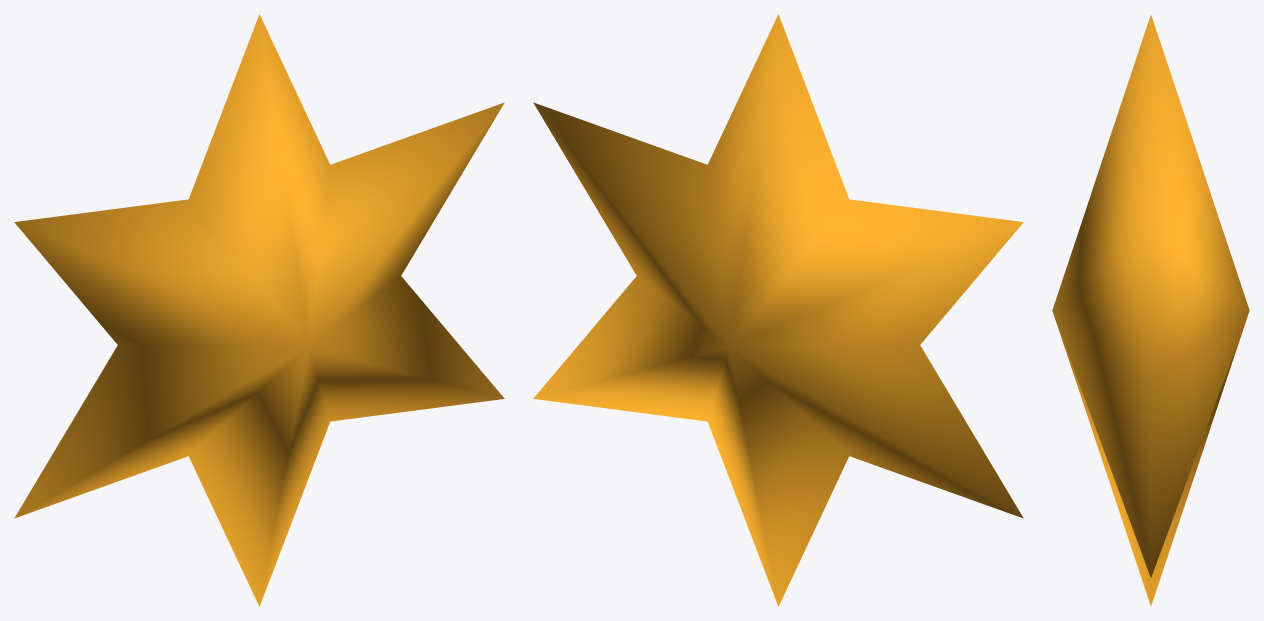
The model's file is 01-STAR-06.fbx.
The picture shows the model from 3 angles, left to right: view 1: azimuth 30°, elevation 25°; view 2: azimuth 150°, elevation 25°; view 3: azimuth 270°, elevation 25°; orthographic projection.
Parts seen in each view (by area): view 1: 01-STAR-06; view 2: 01-STAR-06; view 3: 01-STAR-06.
Part boxes in pixels (x1,y1,x2,y2): 01-STAR-06: (14,14,504,606); 01-STAR-06: (533,14,1023,606); 01-STAR-06: (1052,15,1249,605).
Bounding box in the file's own units: 345 × 398 × 120.
